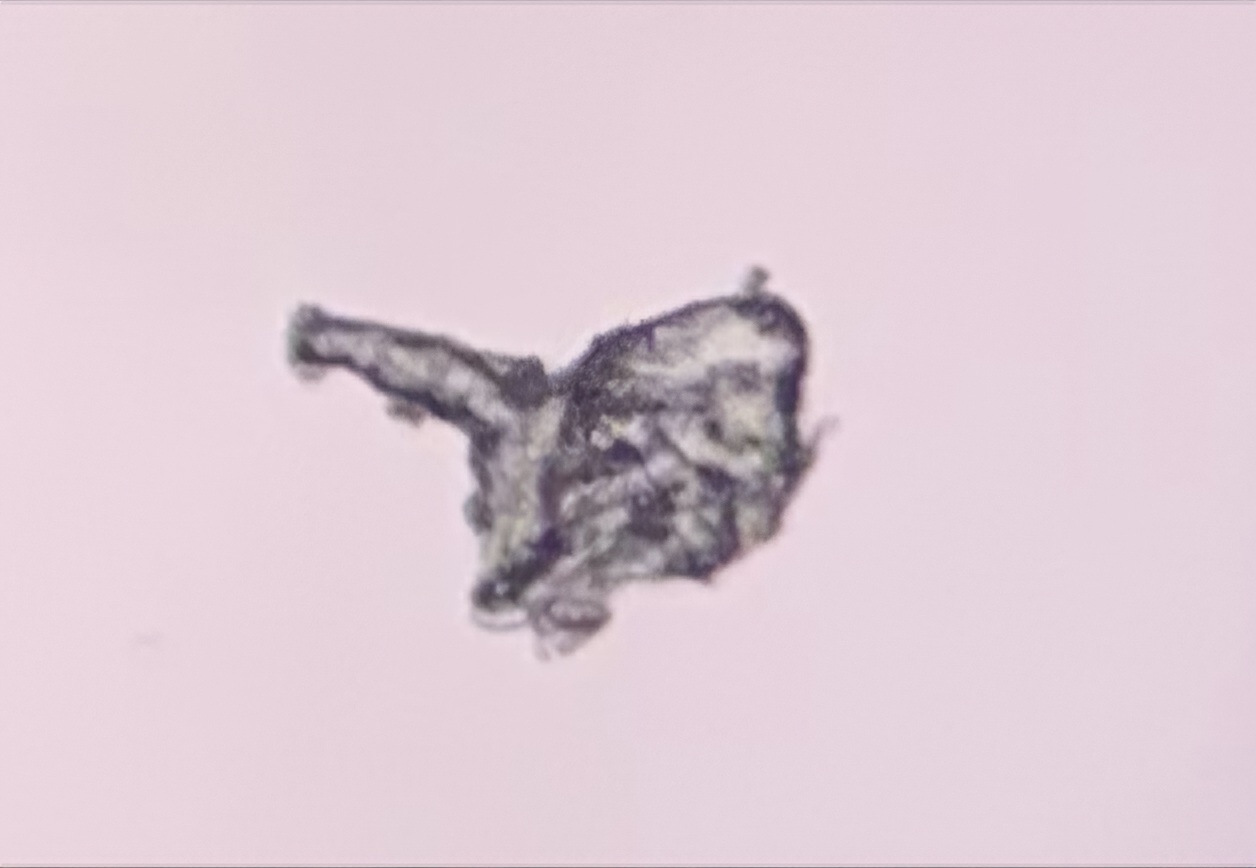microplastic: (284, 264, 844, 664)
